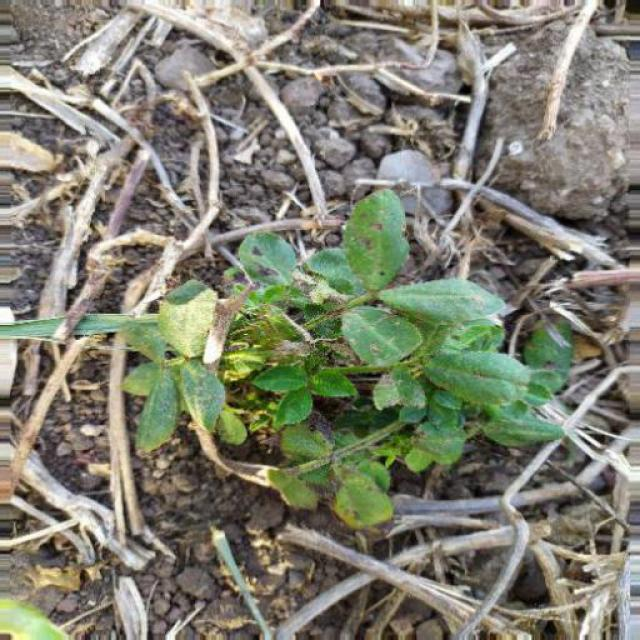weed: (125, 198, 556, 550)
